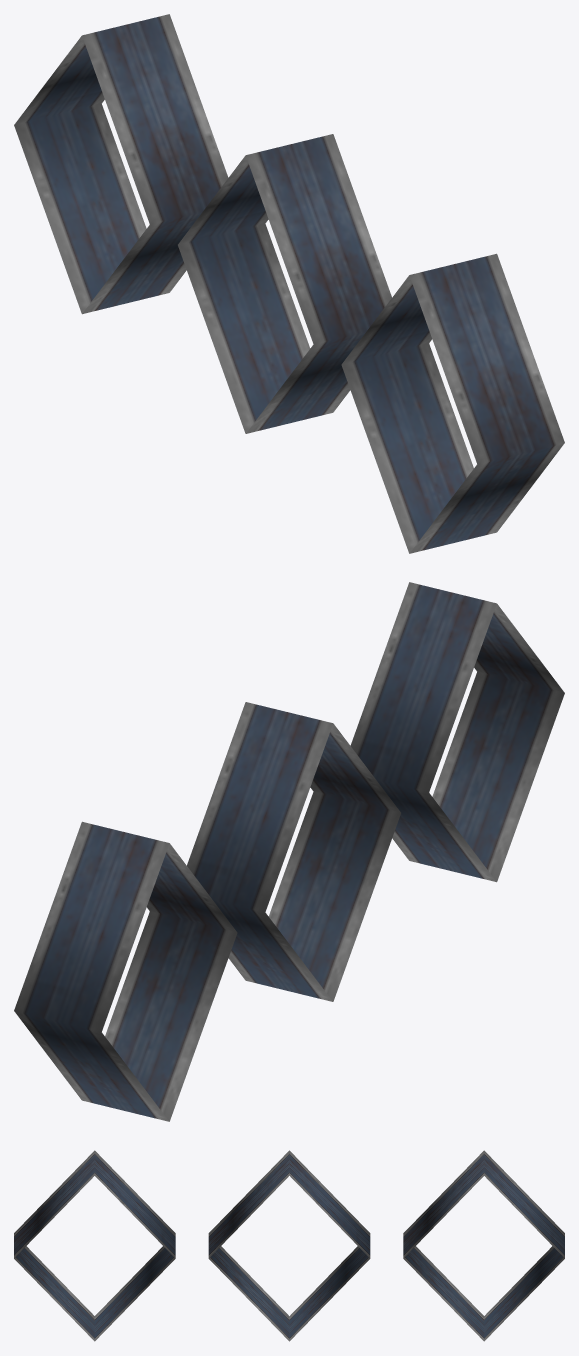
Rendered from Pipe3_Connect2_L2.fbx.
3 views of the same model, one above another, from view 1: azimuth 30°, elevation 25°; view 2: azimuth 150°, elevation 25°; view 3: azimuth 270°, elevation 25° (orthographic). The views are drawn at different scales.
Visible parts, largest first — view 1: PIpe3_Connect2_L2; view 2: PIpe3_Connect2_L2; view 3: PIpe3_Connect2_L2.
Boxes of the visible parts, left/top/right/bottom form: PIpe3_Connect2_L2: left=14, top=14, right=564, bottom=553; PIpe3_Connect2_L2: left=14, top=582, right=564, bottom=1121; PIpe3_Connect2_L2: left=14, top=1150, right=564, bottom=1341.
Size of the model in its own units: 5.16 by 15.66 by 47.15.
